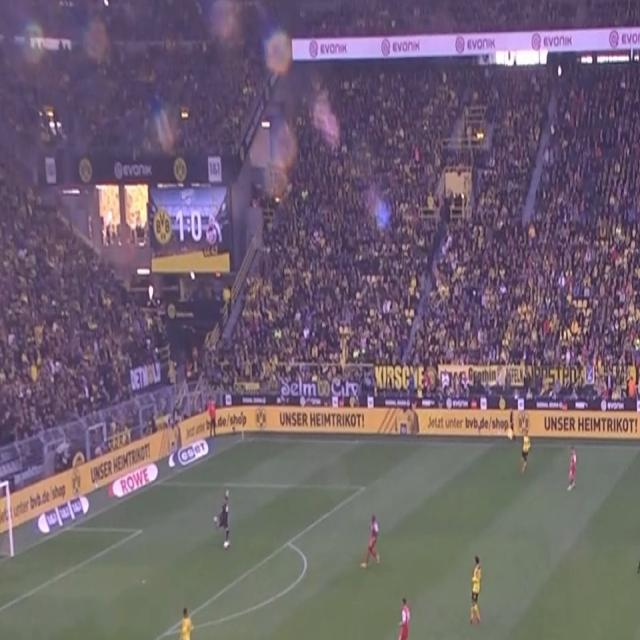ball: (223, 538, 229, 550)
